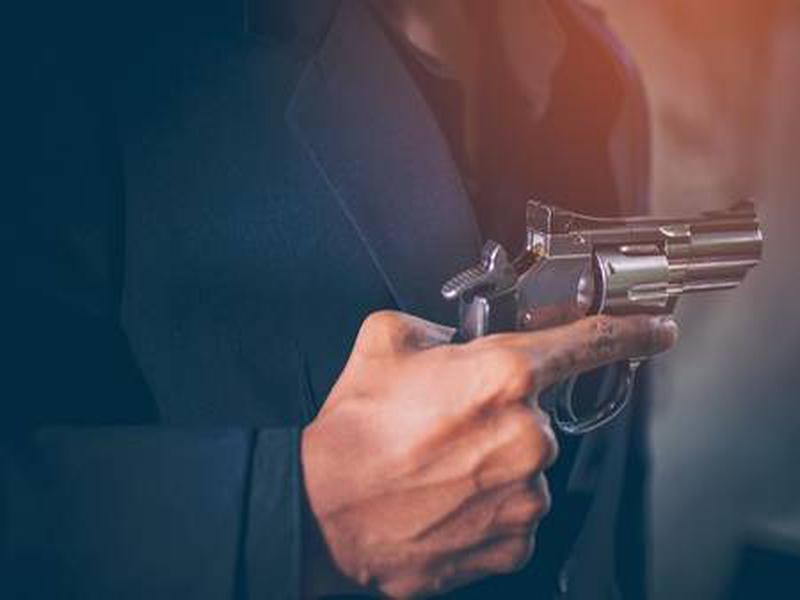Revolver: (438, 186, 768, 431)
